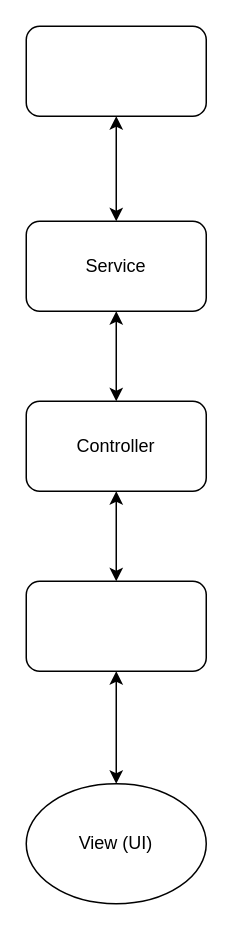
This 233x930 diagram has some shape labels left out. The centre of each missing label's shape, as x and y in pixels:
"Model" goes at (x=115, y=70).
"Router" goes at (x=115, y=625).
